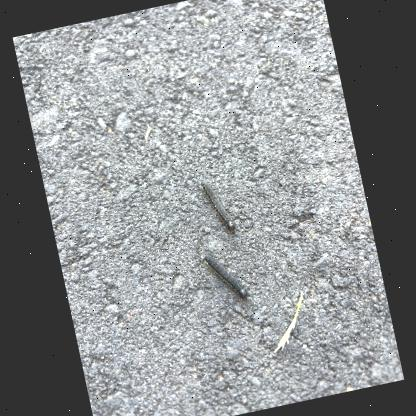Fall Armyworm Larvae: (201, 247, 251, 309), (198, 174, 238, 238)
